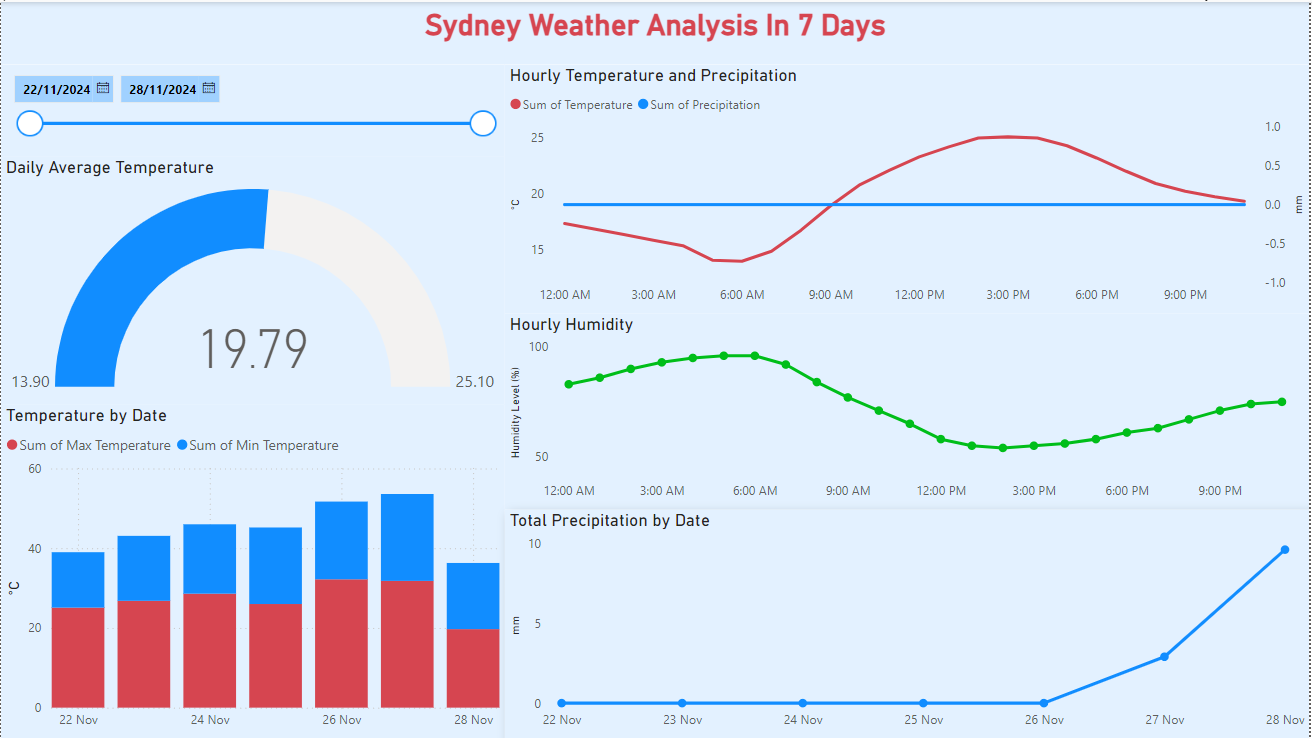

This screenshot's page, from the dashboard's own definition file:
{"tool":"powerbi","page":{"name":"Page 1","canvas":[1280,720],"ordinal":0},"visuals":[{"type":"lineChart","title":"Hourly Temperature and Precipitation","fields":{"Category":["hourly.Timestamp"],"Y":["Sum(hourly.Temperature)"],"Y2":["Sum(hourly.Precipitation)"]},"box":[492.8,61.1,787.5,243.3],"z":0},{"type":"lineChart","title":"Hourly Humidity","fields":{"Category":["hourly.Timestamp"],"Y":["Sum(hourly.Humidity)"]},"box":[492.8,304.5,787.5,192],"z":1000},{"type":"gauge","title":"Daily Average Temperature","fields":{"Y":["Avg(hourly.Temperature)"],"MinValue":["Min(hourly.Temperature)1"],"MaxValue":["Max(hourly.Temperature)2"]},"box":[0,151.6,492.8,242.1],"z":2000},{"type":"columnChart","title":"Temperature by Date","fields":{"Category":["daily.Date"],"Y":["Sum(daily.Max_Temperature)","Sum(daily.Min_Temperature)"]},"box":[0,393.8,492.8,326.5],"z":3000},{"type":"lineChart","title":"Total Precipitation by Date","fields":{"Category":["daily.Date"],"Y":["Sum(daily.Total_Precipitation)"]},"box":[492.8,496.5,787.5,223.8],"z":4000},{"type":"slicer","fields":{"Values":["daily.Date"]},"box":[0,61.1,492.8,90.5],"z":5000},{"type":"textbox","box":[0,0,1280.3,61.1],"z":5001}]}

Visuals, with their boxes in screenshot pixels (x1, y1, x2, y2), scaled from the page's 1280x720 canvas onto the 1312x738 screenshot:
"Hourly Temperature and Precipitation" lineChart: bbox(505, 63, 1311, 312)
"Hourly Humidity" lineChart: bbox(505, 312, 1311, 509)
"Daily Average Temperature" gauge: bbox(0, 155, 505, 404)
"Temperature by Date" columnChart: bbox(0, 404, 505, 737)
"Total Precipitation by Date" lineChart: bbox(505, 509, 1311, 737)
slicer - daily.Date: bbox(0, 63, 505, 155)
textbox: bbox(0, 0, 1311, 63)
